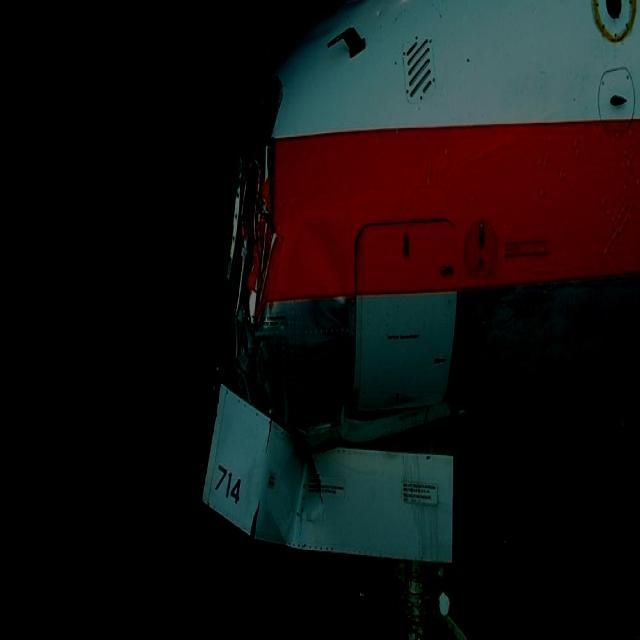dent: (300, 215, 353, 309)
